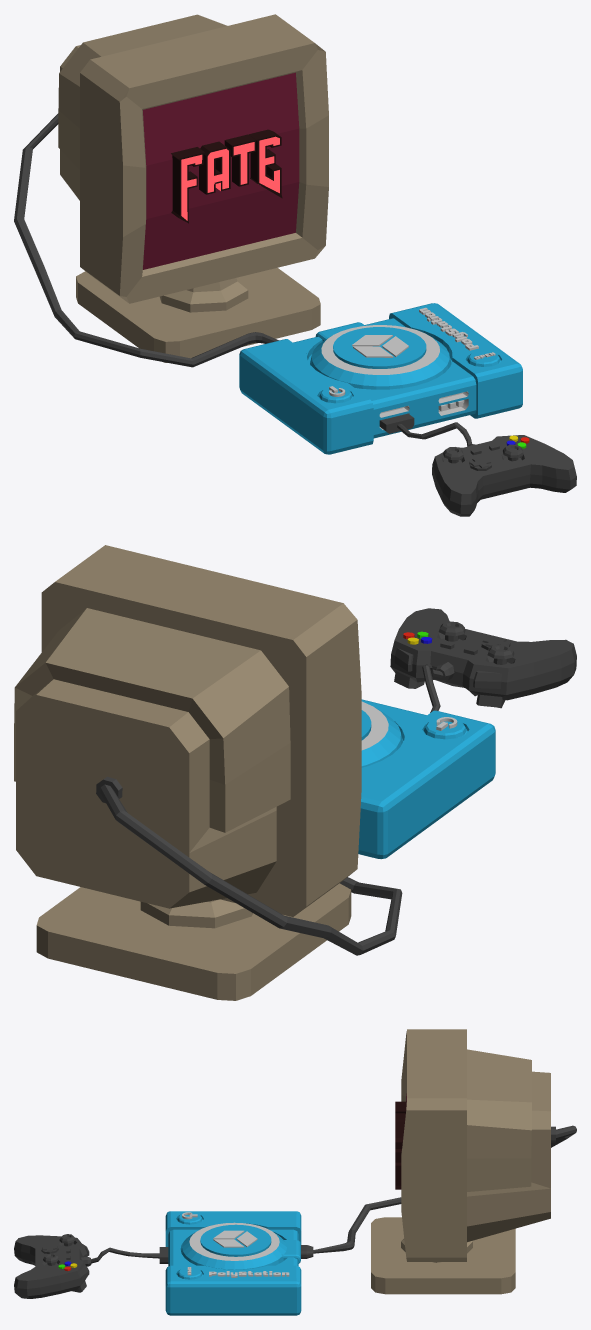
File: meteorite.glb
The picture shows the model from 3 angles, top to bottom: view 1: azimuth 30°, elevation 25°; view 2: azimuth 150°, elevation 25°; view 3: azimuth 270°, elevation 25°; orthographic projection. The views are drawn at different scales.
Parts seen in each view (by area): view 1: Monitor_5, Console_3, Controller_4, Text_7; view 2: Monitor_5, Console_3, Controller_4; view 3: Monitor_5, Console_3, Controller_4, Text_7.
Part boxes in pixels (<box>): Monitor_5: <box>14,14,328,367</box>; Console_3: <box>239,303,522,454</box>; Controller_4: <box>379,413,576,516</box>; Text_7: <box>171,129,282,223</box>; Monitor_5: <box>14,545,402,1000</box>; Console_3: <box>358,699,495,859</box>; Controller_4: <box>390,608,576,712</box>; Monitor_5: <box>313,1029,576,1294</box>; Console_3: <box>165,1211,301,1315</box>; Controller_4: <box>14,1234,168,1298</box>; Text_7: <box>395,1101,406,1189</box>.
Bounding box in the file's own units: 3.32 × 2.93 × 7.47.
